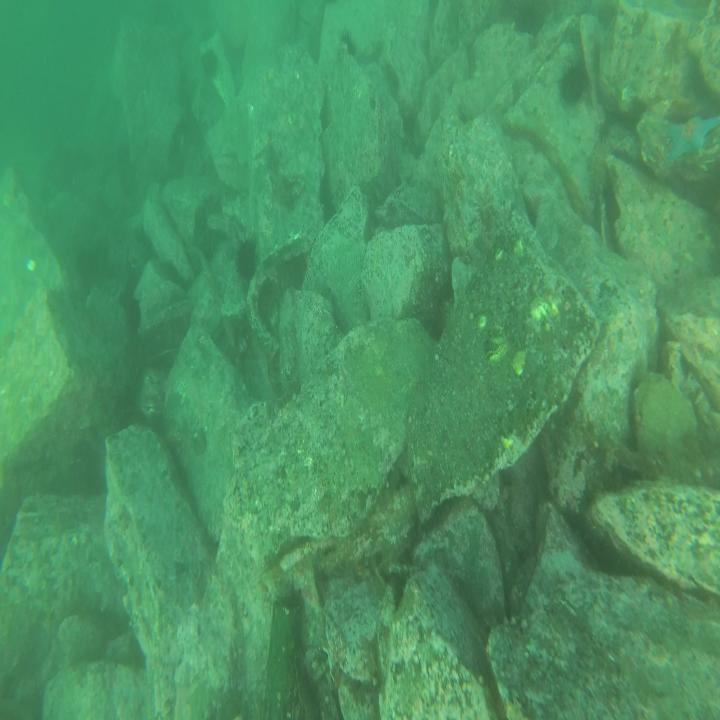echinus: (588, 131, 616, 191), (559, 52, 589, 102), (231, 235, 260, 277)
starfish: (663, 107, 719, 166)
